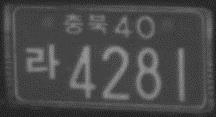0: (137, 15, 155, 38)
1: (170, 47, 193, 100)
2: (101, 45, 130, 100)
4: (68, 45, 95, 98), (112, 16, 134, 38)
8: (135, 46, 162, 100)
라: (25, 42, 60, 80)
충북_O: (64, 11, 109, 35)
